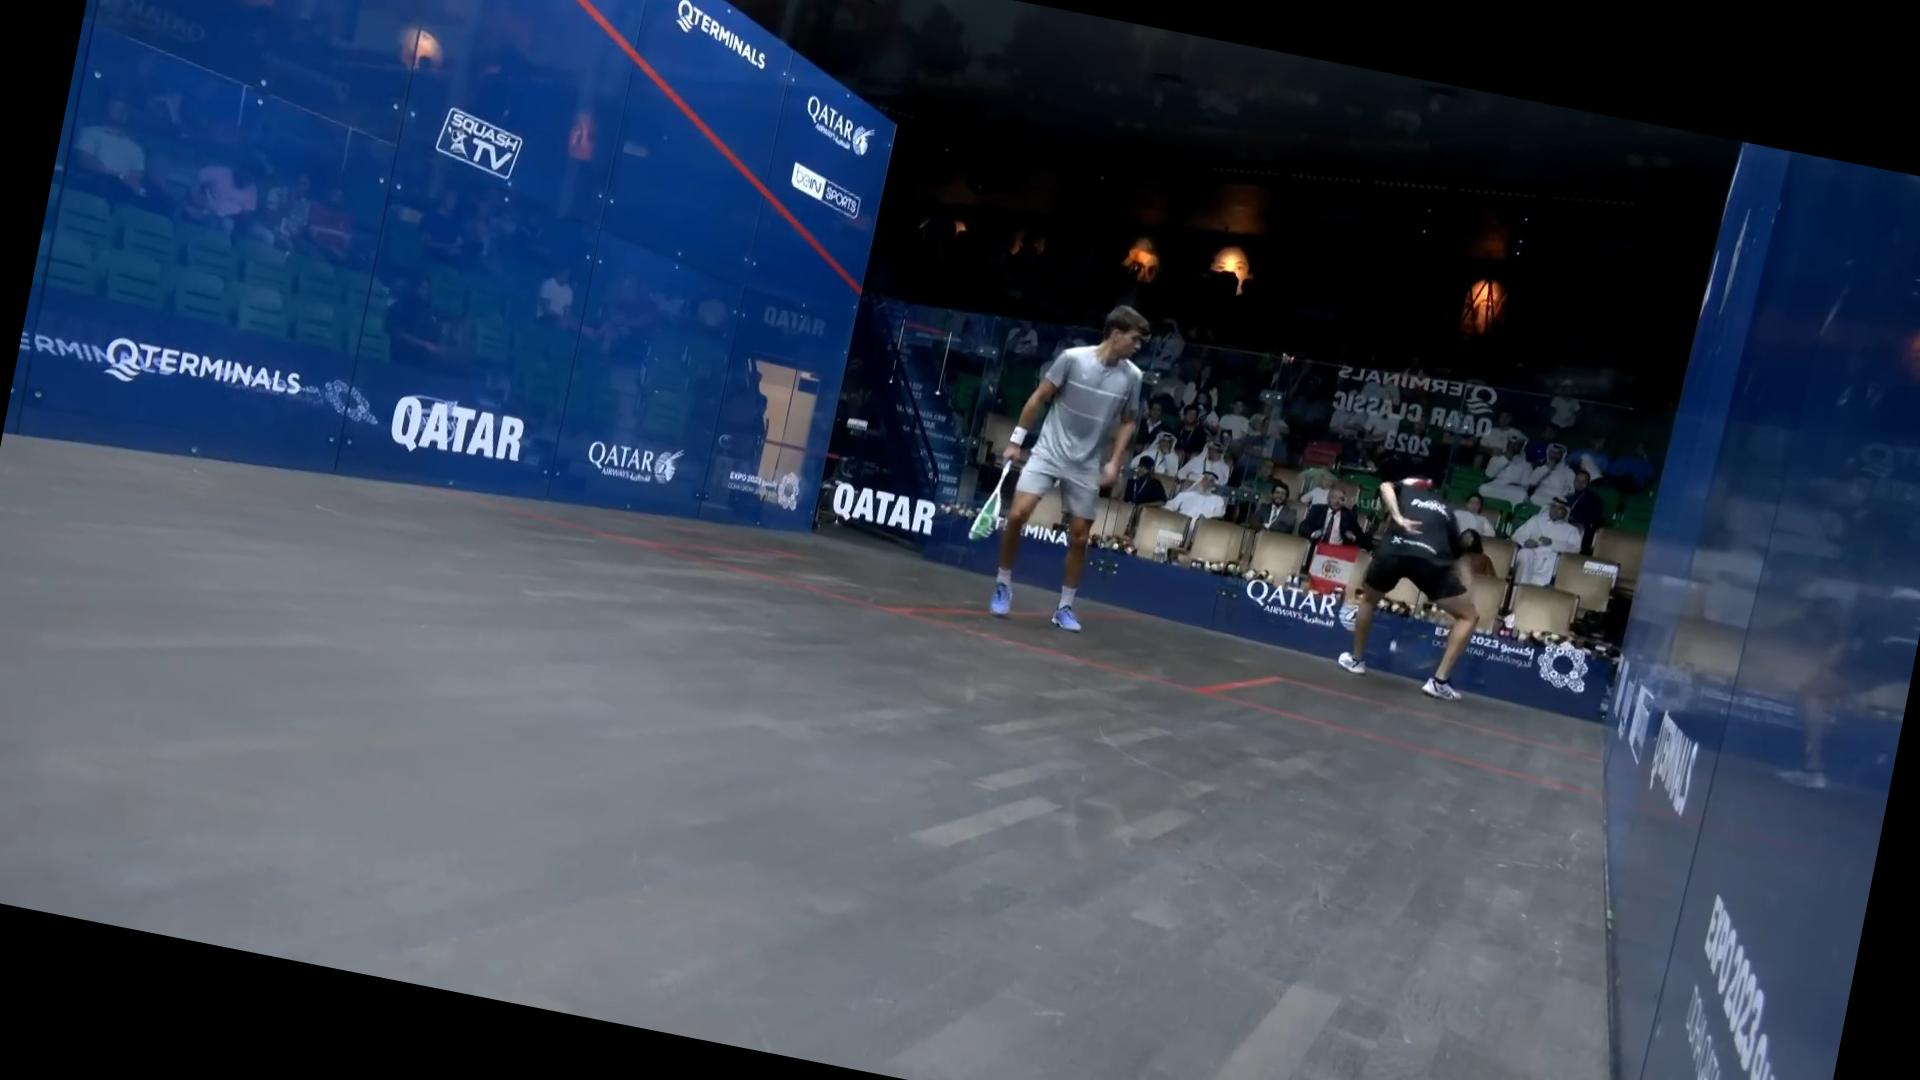Racket: (960, 456, 1019, 549)
